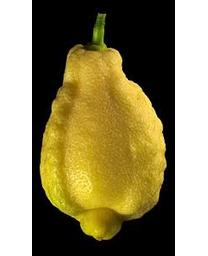lemon: (41, 45, 166, 240)
